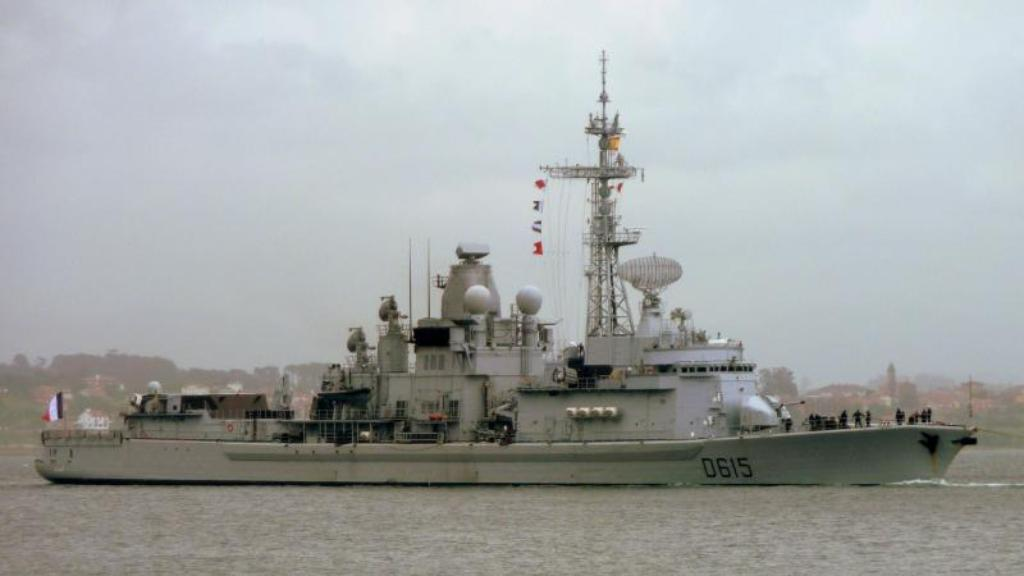Warship: (28, 52, 984, 488)
